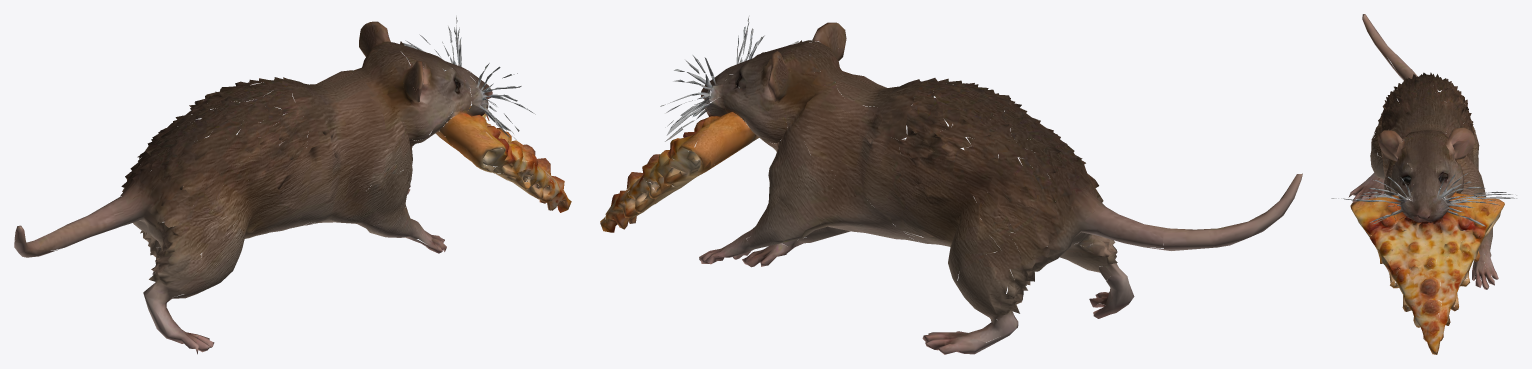
Rendered from marks_rat.glb.
The picture shows the model from 3 angles, left to right: view 1: azimuth 30°, elevation 25°; view 2: azimuth 150°, elevation 25°; view 3: azimuth 270°, elevation 25°; orthographic projection. The views are drawn at different scales.
Visible parts, largest first — view 1: tripo_node_39ab3ab0-b53a-43e4-97d4-f85e7a944295; view 2: tripo_node_39ab3ab0-b53a-43e4-97d4-f85e7a944295; view 3: tripo_node_39ab3ab0-b53a-43e4-97d4-f85e7a944295.
Boxes of the visible parts, bbox=[...] form: tripo_node_39ab3ab0-b53a-43e4-97d4-f85e7a944295: bbox=[14, 15, 571, 354]; tripo_node_39ab3ab0-b53a-43e4-97d4-f85e7a944295: bbox=[600, 15, 1302, 354]; tripo_node_39ab3ab0-b53a-43e4-97d4-f85e7a944295: bbox=[1331, 14, 1516, 354].
Size of the model in its own units: 1 by 0.3539 by 0.3577.
Materials: 1 (1 with a texture image).
